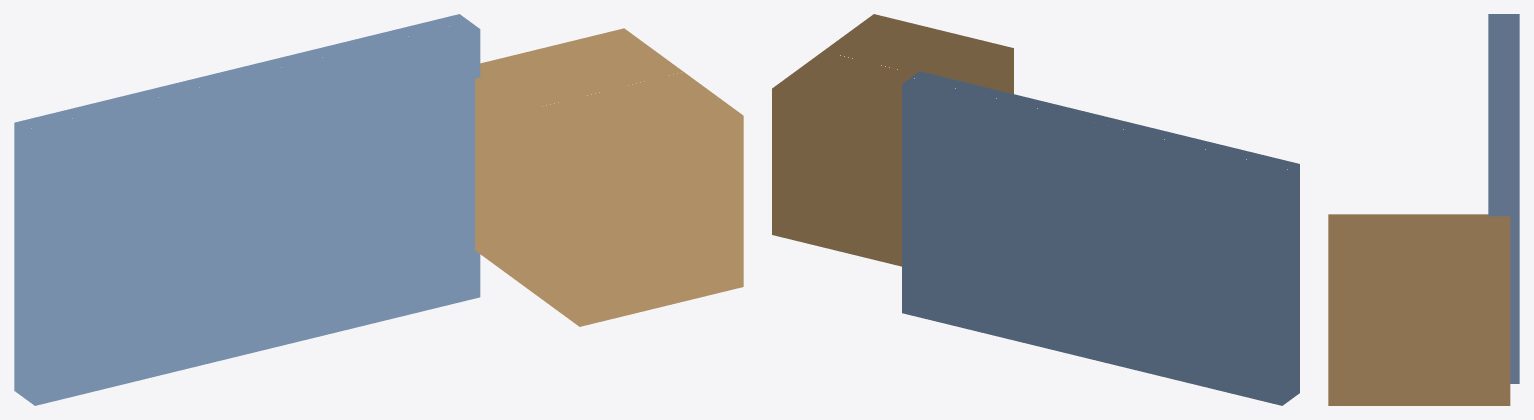
File: tiny-assembly.gltf
The picture shows the model from 3 angles, left to right: view 1: azimuth 30°, elevation 25°; view 2: azimuth 150°, elevation 25°; view 3: azimuth 270°, elevation 25°; orthographic projection. The views are drawn at different scales.
Parts seen in each view (by area): view 1: Blue plate, Amber block; view 2: Blue plate, Amber block; view 3: Amber block, Blue plate.
Boxes of the visible parts, x1,y1,x2,y2 form: Blue plate: (14, 14, 480, 405); Amber block: (475, 28, 743, 326); Blue plate: (902, 71, 1299, 405); Amber block: (772, 14, 1013, 266); Amber block: (1328, 214, 1510, 405); Blue plate: (1488, 14, 1519, 383).
Bounding box in the file's own units: 1.7 × 0.72 × 0.61.
